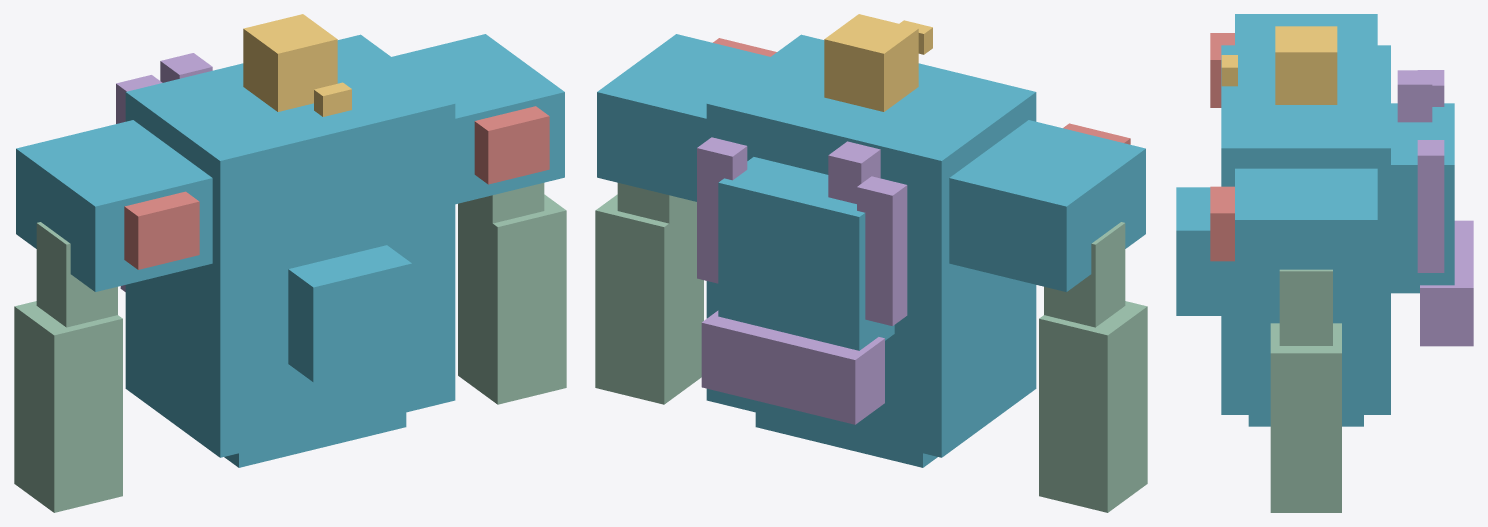
File: mechfall_falcon.glb
3 views of the same model, side by side, from view 1: azimuth 30°, elevation 25°; view 2: azimuth 150°, elevation 25°; view 3: azimuth 270°, elevation 25° (orthographic). The views are drawn at different scales.
Visible parts, largest first — view 1: TORSO HULL, FOREARM L, SHOULDER L, FOREARM R, REACTOR CORE, SHOULDER R, COCKPIT CANOPY, WEAPON MOUNT L, WEAPON MOUNT R, UPPER ARM L, UPPER ARM R, HIP ASSEMBLY (+3 smaller); view 2: TORSO HULL, SHOULDER L, EW BACKPACK, FOREARM L, FOREARM R, SHOULDER R, COCKPIT CANOPY, RADIATOR L, THRUSTER 1, UPPER ARM L, RADIATOR R, UPPER ARM R (+5 smaller); view 3: TORSO HULL, SHOULDER R, FOREARM R, EW BACKPACK, REACTOR CORE, COCKPIT CANOPY, UPPER ARM R, RADIATOR R, THRUSTER 4, SHOULDER L, JUMP JET 1, WEAPON MOUNT R (+5 smaller).
Boxes of the visible parts, x1,y1,x2,y2 form: TORSO HULL: [125, 34, 455, 457]; FOREARM L: [14, 301, 122, 512]; SHOULDER L: [16, 120, 212, 291]; FOREARM R: [458, 194, 566, 404]; REACTOR CORE: [288, 245, 411, 382]; SHOULDER R: [392, 34, 564, 204]; COCKPIT CANOPY: [243, 14, 337, 111]; WEAPON MOUNT L: [124, 191, 199, 269]; WEAPON MOUNT R: [474, 106, 549, 184]; UPPER ARM L: [36, 222, 117, 327]; UPPER ARM R: [463, 183, 544, 281]; HIP ASSEMBLY: [224, 412, 406, 467]; TORSO HULL: [706, 34, 1036, 457]; SHOULDER L: [949, 120, 1145, 291]; EW BACKPACK: [718, 157, 894, 350]; FOREARM L: [1039, 301, 1147, 512]; FOREARM R: [595, 194, 703, 404]; SHOULDER R: [597, 34, 769, 201]; COCKPIT CANOPY: [824, 14, 918, 111]; RADIATOR L: [857, 176, 907, 325]; THRUSTER 1: [808, 337, 884, 424]; UPPER ARM L: [1044, 222, 1125, 327]; RADIATOR R: [697, 137, 747, 283]; UPPER ARM R: [617, 183, 696, 281]; TORSO HULL: [1221, 45, 1390, 414]; SHOULDER R: [1235, 168, 1377, 296]; FOREARM R: [1270, 323, 1341, 512]; EW BACKPACK: [1391, 103, 1454, 293]; REACTOR CORE: [1176, 187, 1221, 315]; COCKPIT CANOPY: [1275, 26, 1337, 104]; UPPER ARM R: [1279, 269, 1332, 345]; RADIATOR R: [1417, 140, 1444, 272]; THRUSTER 4: [1420, 272, 1473, 346]; SHOULDER L: [1235, 14, 1377, 45]; JUMP JET 1: [1397, 70, 1432, 122]; WEAPON MOUNT R: [1210, 186, 1234, 261].
Bounding box in the file's own units: 4.01 × 3.01 × 2.24.
